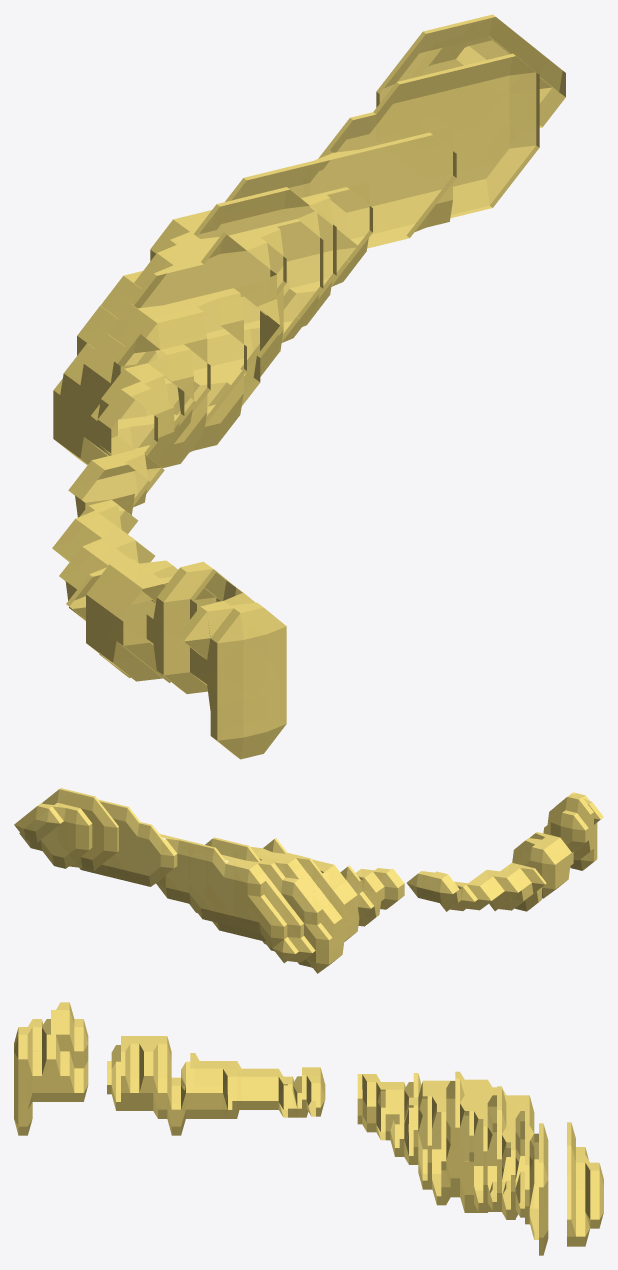
The model's file is SVV_BWM-DR06.gltf.
3 views of the same model, one above another, from view 1: azimuth 30°, elevation 25°; view 2: azimuth 150°, elevation 25°; view 3: azimuth 270°, elevation 25° (orthographic). The views are drawn at different scales.
Visible parts, largest first — view 1: BWM-DR06; view 2: BWM-DR06; view 3: BWM-DR06.
Boxes of the visible parts, x1,y1,x2,y2 form: BWM-DR06: [52, 14, 565, 759]; BWM-DR06: [14, 788, 603, 973]; BWM-DR06: [14, 1002, 603, 1255].
Bounding box in the file's own units: 16900 × 6142 × 16264.
